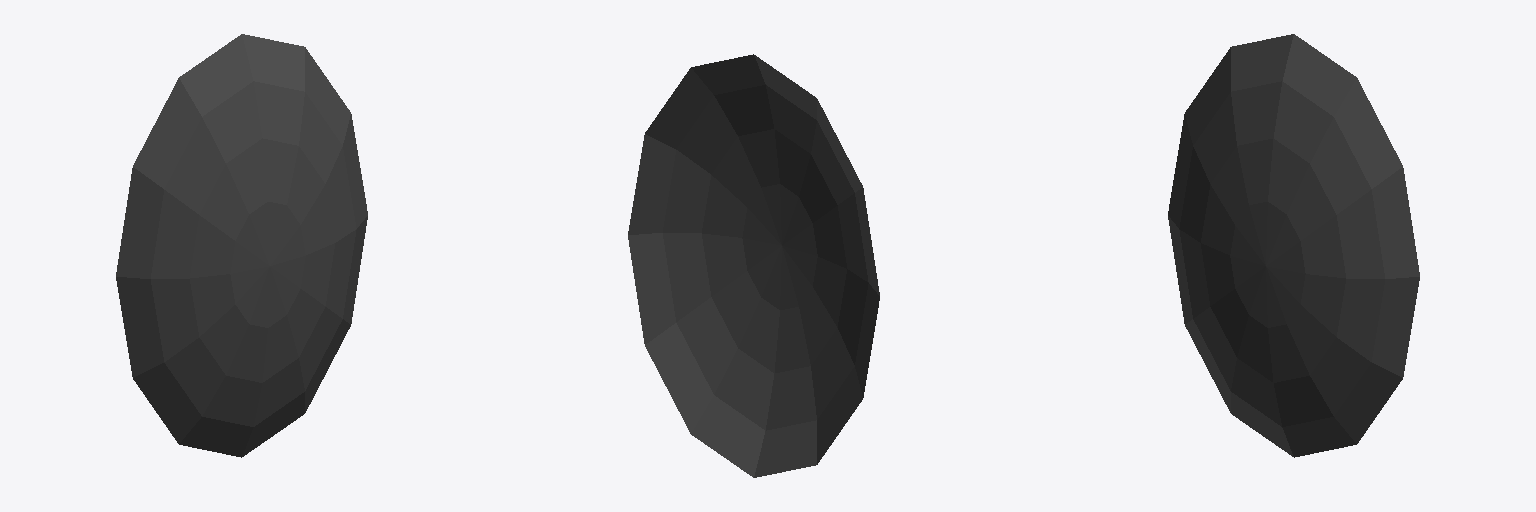
Rendered from BossShield.obj.
3 views of the same model, side by side, from view 1: azimuth 30°, elevation 25°; view 2: azimuth 150°, elevation 25°; view 3: azimuth 330°, elevation 25° (orthographic).
Parts seen in each view (by area): view 1: g Cylinder001_Cylinder001; view 2: g Cylinder001_Cylinder001; view 3: g Cylinder001_Cylinder001.
Part boxes in pixels (left/top/right/bottom): g Cylinder001_Cylinder001: left=116, top=34, right=367, bottom=457; g Cylinder001_Cylinder001: left=628, top=54, right=879, bottom=477; g Cylinder001_Cylinder001: left=1168, top=34, right=1419, bottom=457.
Size of the model in its own units: 34.76 by 55.77 by 6.67.